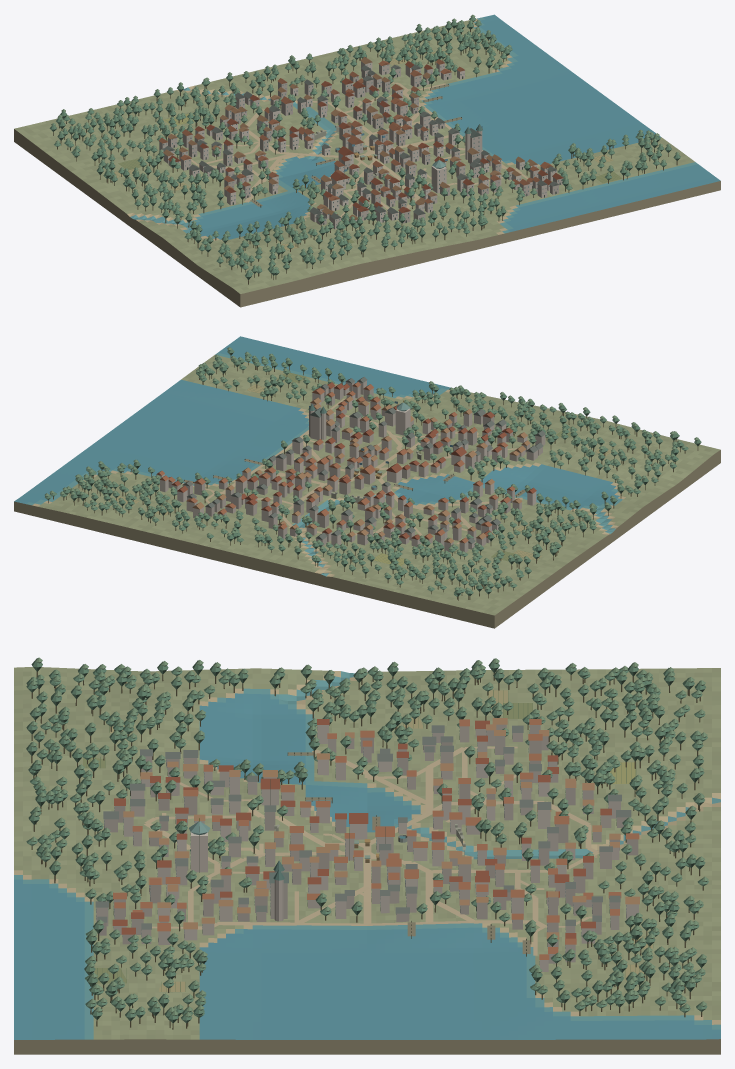
File: sample-city.glb
The picture shows the model from 3 angles, top to bottom: view 1: azimuth 30°, elevation 25°; view 2: azimuth 150°, elevation 25°; view 3: azimuth 270°, elevation 25°; orthographic projection. The views are drawn at different scales.
Parts seen in each view (by area): view 1: terrain, water, trees, buildings, roofs, details, streets, farms; view 2: terrain, water, trees, buildings, roofs, details, streets, farms; view 3: terrain, water, trees, buildings, roofs, details, streets, farms.
Part boxes in pixels (x1,y1,x2,y2): terrain: (14, 18, 720, 307); water: (130, 14, 720, 239); trees: (49, 14, 680, 279); buildings: (159, 61, 562, 229); roofs: (158, 57, 563, 219); details: (53, 23, 677, 284); streets: (191, 82, 528, 218); farms: (114, 49, 622, 250); terrain: (14, 355, 720, 628); water: (14, 336, 622, 576); trees: (44, 347, 701, 596); buildings: (157, 380, 545, 552); roofs: (156, 376, 545, 543); details: (48, 356, 698, 600); streets: (181, 398, 522, 544); farms: (115, 372, 611, 566); terrain: (14, 667, 720, 1054); water: (14, 671, 720, 1039); trees: (26, 657, 708, 1023); buildings: (96, 724, 638, 971); roofs: (95, 718, 639, 959); details: (31, 671, 703, 1029); streets: (144, 746, 598, 955); farms: (83, 690, 653, 991).
Bounding box in the file's own units: 152 × 13.01 × 124.
